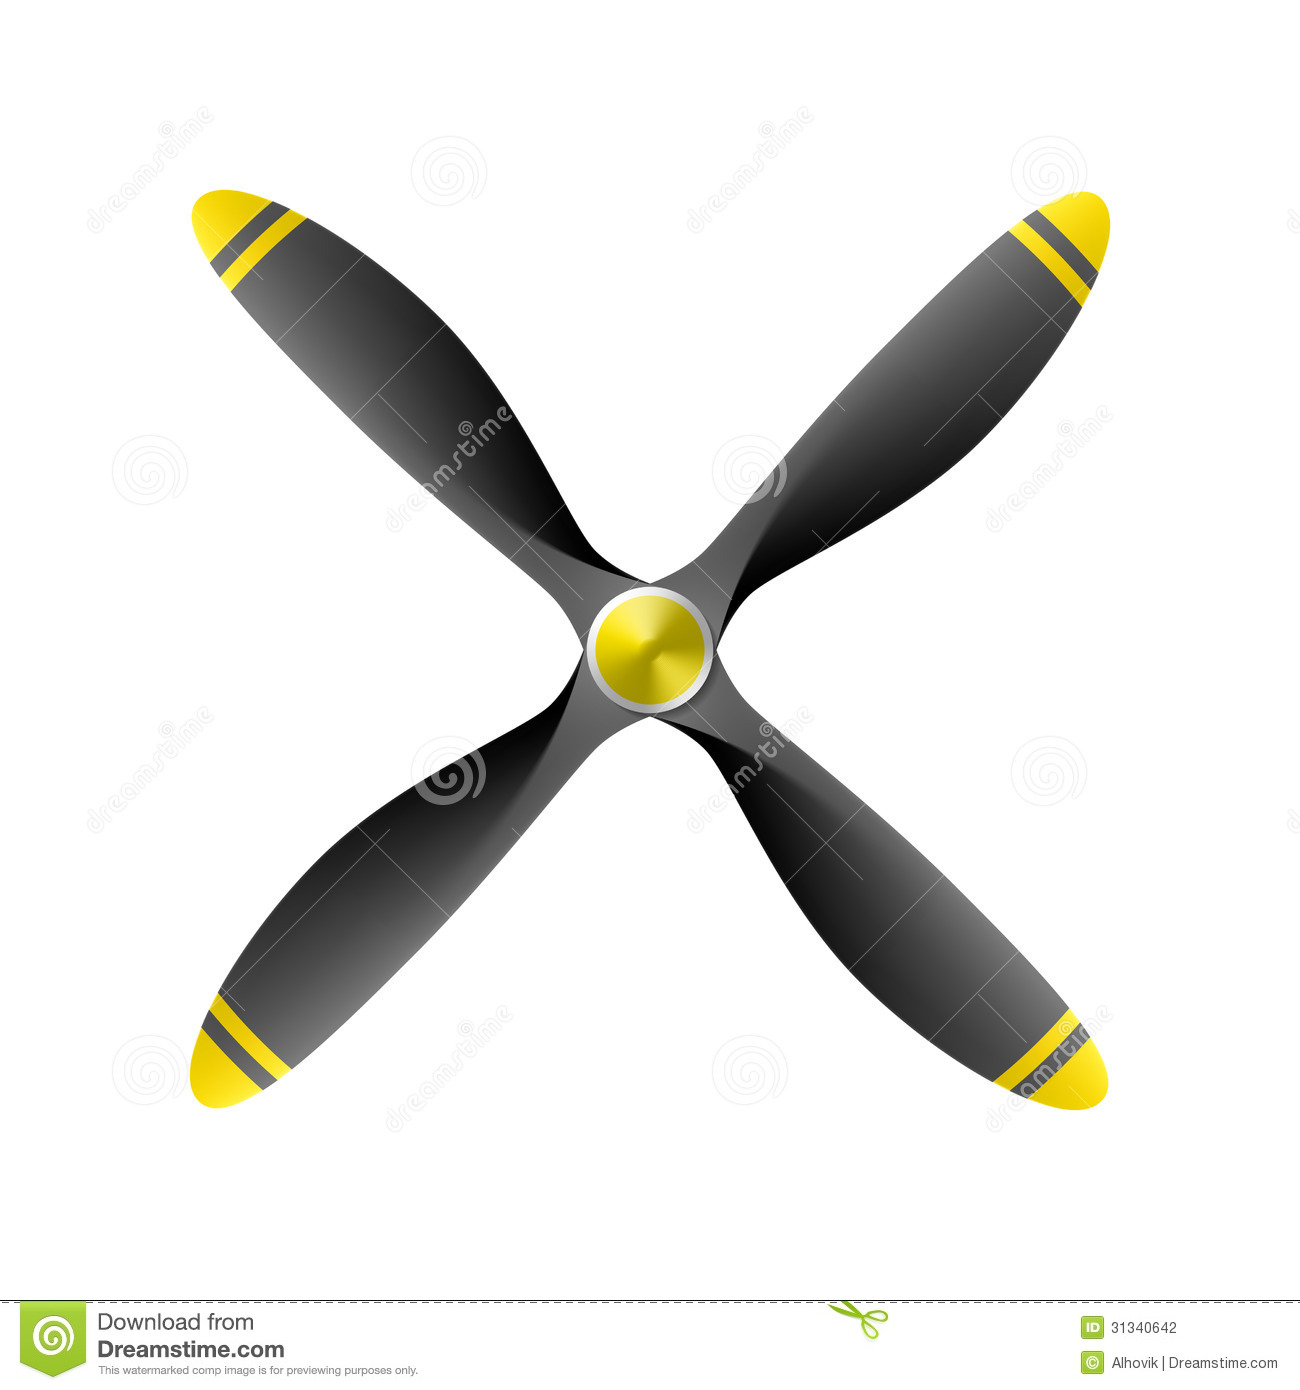Propeller: (147, 159, 1108, 1124)
